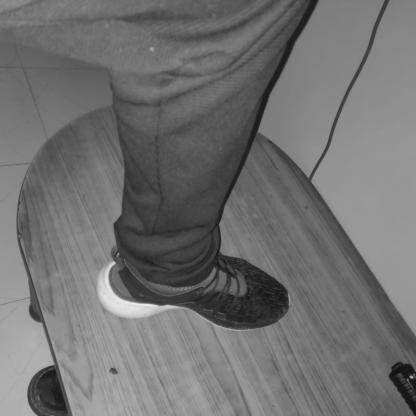ankle: (162, 287, 166, 291)
heel: (100, 287, 103, 292)
left_foot: (98, 255, 291, 332)
pinky: (262, 274, 265, 278)
toe: (272, 315, 276, 319)
